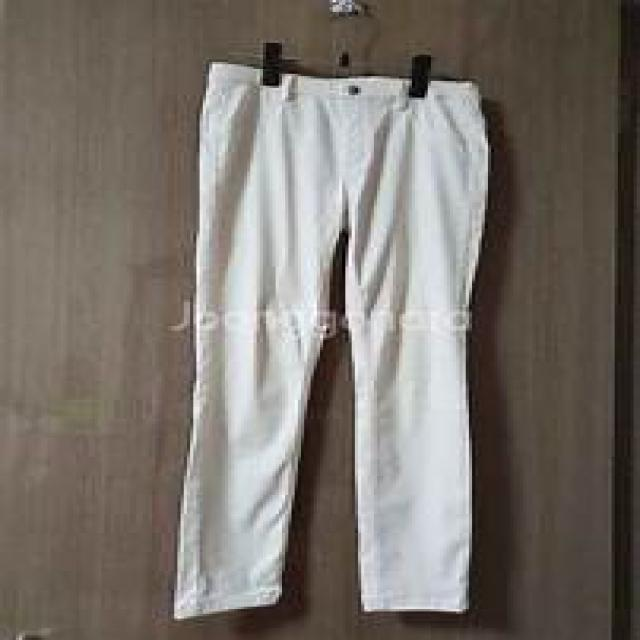long-pants: (166, 61, 489, 619)
